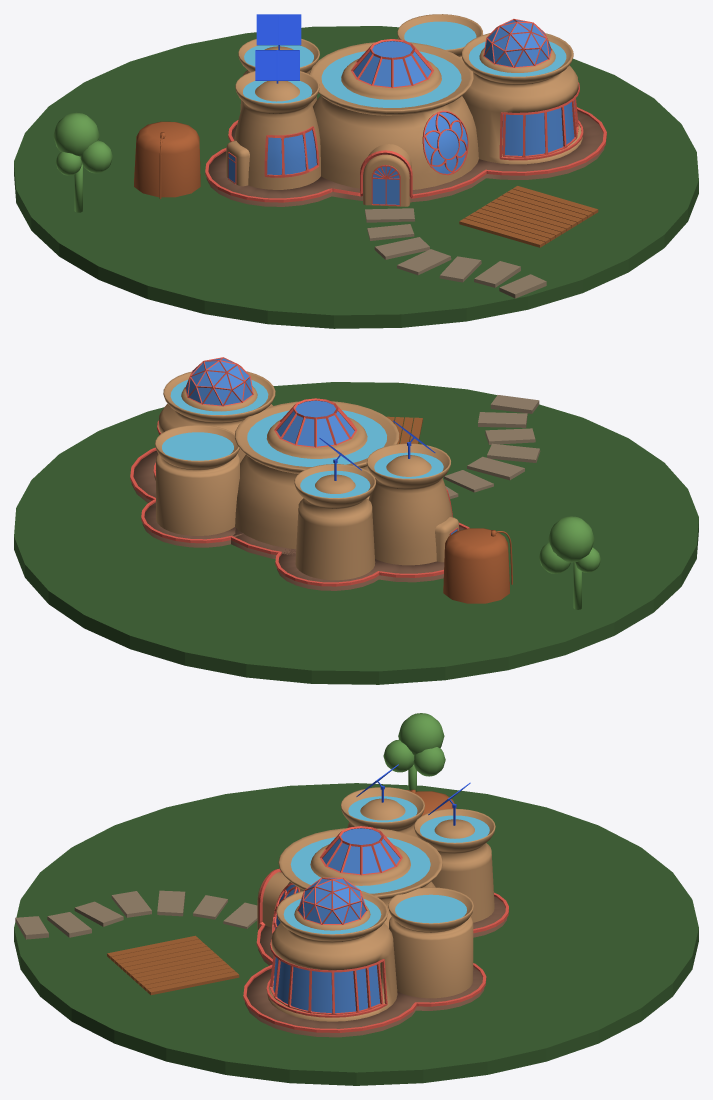
Rendered from EXP_all.glb.
3 renders of one model, top to bottom at view 1: azimuth 30°, elevation 25°; view 2: azimuth 150°, elevation 25°; view 3: azimuth 270°, elevation 25°, orthographic.
Visible parts, largest first — view 1: EXP_Ground, EXP_House_Wall, EXP_House_Window, EXP_House_Water, EXP_House_Frame, EXP_House_Base, EXP_Path, EXP_Patio, EXP_Biogas, EXP_Tree, EXP_Solar, EXP_House_Edge; view 2: EXP_Ground, EXP_House_Wall, EXP_House_Water, EXP_Biogas, EXP_House_Base, EXP_Path, EXP_House_Window, EXP_Tree, EXP_House_Frame, EXP_House_Edge, EXP_Patio; view 3: EXP_Ground, EXP_House_Wall, EXP_House_Window, EXP_House_Water, EXP_House_Base, EXP_House_Frame, EXP_Patio, EXP_Path, EXP_Tree, EXP_House_Edge, EXP_Biogas.
Part boxes in pixels (x1,y1,x2,y2): EXP_Ground: (14, 26, 698, 328); EXP_House_Wall: (226, 14, 582, 206); EXP_House_Window: (228, 20, 575, 204); EXP_House_Water: (243, 21, 566, 107); EXP_House_Frame: (228, 19, 583, 206); EXP_House_Base: (206, 111, 604, 206); EXP_Path: (365, 208, 546, 298); EXP_Patio: (459, 186, 598, 247); EXP_Biogas: (134, 121, 200, 198); EXP_Tree: (53, 112, 112, 212); EXP_Solar: (255, 14, 301, 83); EXP_House_Edge: (205, 107, 606, 202); EXP_Ground: (14, 382, 698, 684); EXP_House_Wall: (154, 371, 458, 580); EXP_House_Water: (162, 379, 443, 497); EXP_Biogas: (443, 528, 512, 603); EXP_House_Base: (131, 450, 465, 590); EXP_Path: (444, 395, 540, 498); EXP_House_Window: (186, 358, 457, 534); EXP_Tree: (539, 516, 600, 609); EXP_House_Frame: (153, 357, 458, 535); EXP_House_Edge: (130, 447, 469, 586); EXP_Patio: (386, 416, 422, 444); EXP_Ground: (14, 783, 698, 1085); EXP_House_Wall: (257, 787, 495, 1021); EXP_House_Window: (273, 828, 399, 1013); EXP_House_Water: (283, 796, 489, 934); EXP_House_Base: (245, 896, 507, 1037); EXP_House_Frame: (266, 826, 402, 1017); EXP_Patio: (107, 935, 239, 995); EXP_Path: (15, 890, 257, 939); EXP_Tree: (383, 713, 445, 791); EXP_House_Edge: (243, 868, 508, 1032); EXP_Biogas: (406, 789, 456, 815).
Size of the model in its own units: 13.32 by 3.35 by 13.32.
